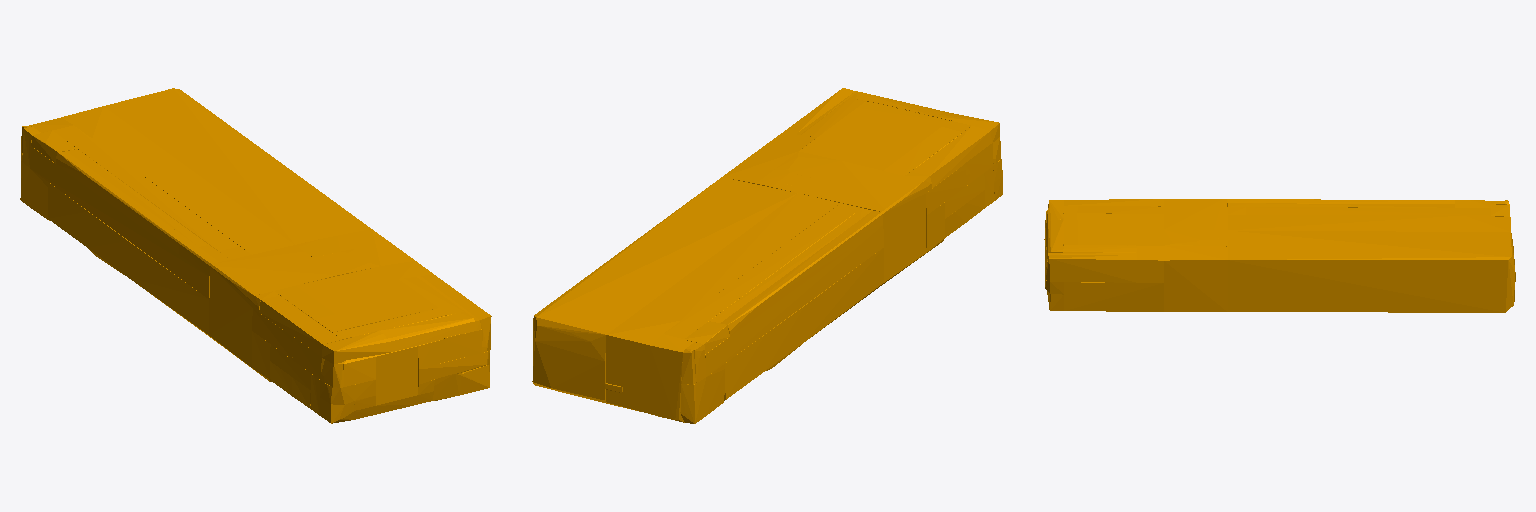
robot.urdf — box-leibniz:
<?xml version="1.0" ?>
<robot name="box-leibniz">
  <link name="baseLink">
    <contact>
      <lateral_friction value="1.0"/>
      <inertia_scaling value="3.0"/>
    </contact>
    <inertial>
      <origin rpy="0 0 0" xyz="0.000 0.000 0.000"/>
       <mass value=".1"/>
       <inertia ixx="1" ixy="0.0" ixz="0.0" iyy="1" iyz="0.0" izz="1"/>
    </inertial>
    <visual>
      <origin rpy="0 0 0" xyz="0 0 0"/>
      <geometry>
        <mesh filename="box/box-leibniz_choco.obj" scale="1.0 1.0 1.0"/>
      </geometry>
    </visual>
    <collision>
      <origin rpy="0 0 0" xyz="0 0 0"/>
      <geometry>
        <mesh filename="../collision/box/box-leibniz_choco.obj" scale="1.0 1.0 1.0"/>
      </geometry>
    </collision>
  </link>
</robot>
        

--- Facts derived from the render (not from the file) ---
3 views of the same robot in one strip: view 1: azimuth 30°, elevation 25°; view 2: azimuth 150°, elevation 25°; view 3: azimuth 270°, elevation 25° (orthographic).
Model box-leibniz with 1 links and 0 joints (none), rooted at baseLink, posed every joint at zero.
Links seen in each view (by area): view 1: baseLink; view 2: baseLink; view 3: baseLink.
Boxes of the visible links, x1,y1,x2,y2 form: baseLink: (20,88,491,423); baseLink: (532,88,1002,423); baseLink: (1044,199,1515,312).
Size in the robot's own frame: 0.0687 by 0.2304 by 0.0308 metres.
1 mesh visuals loaded from 1 distinct referenced files (1 OBJ).
